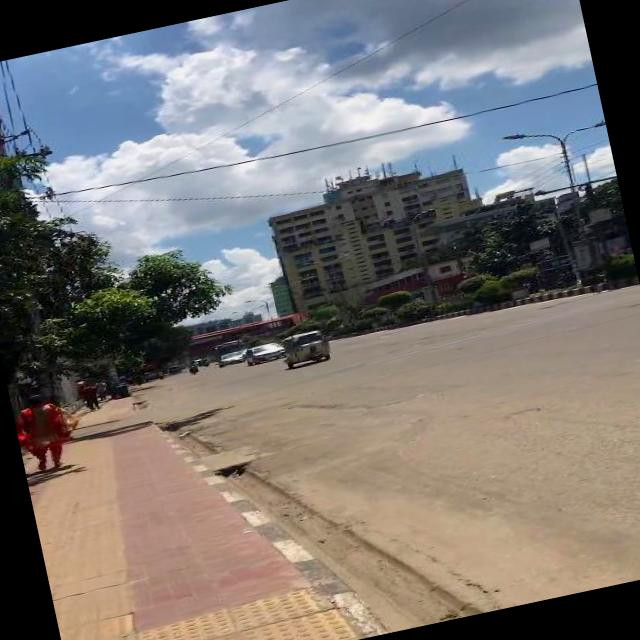bus: (214, 336, 246, 356)
car: (244, 338, 288, 365), (218, 348, 246, 366)
motorcycle: (281, 323, 335, 368), (187, 358, 200, 374)
